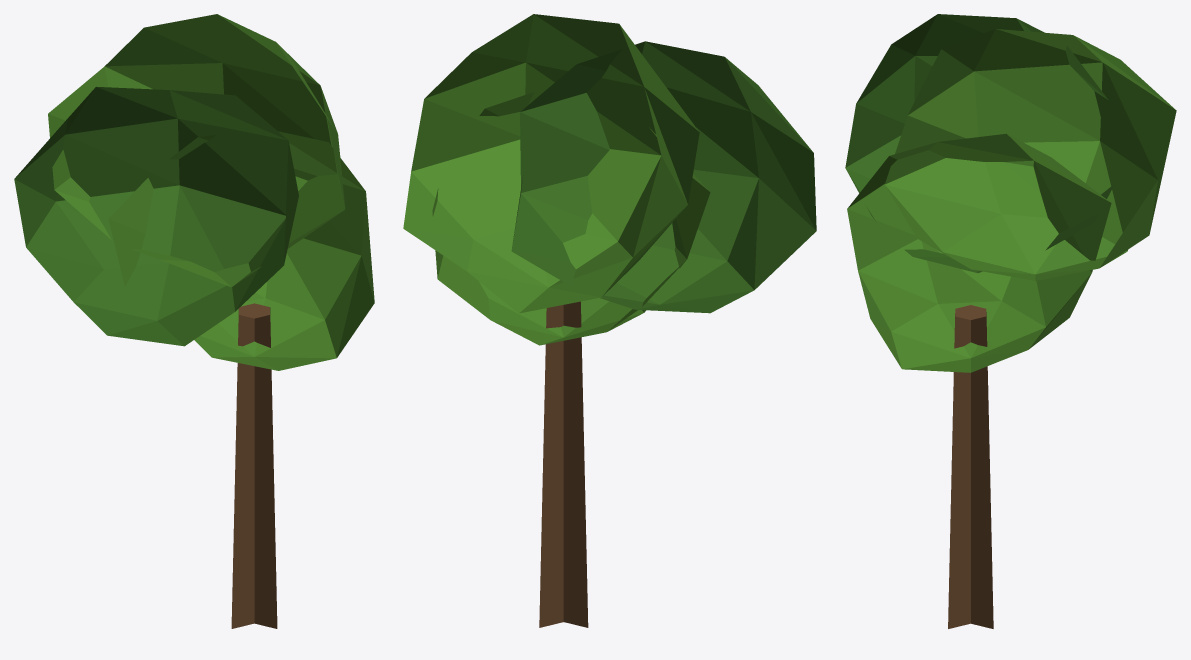
File: tree-round-b.glb
3 renders of one model, left to right at view 1: azimuth 30°, elevation 25°; view 2: azimuth 150°, elevation 25°; view 3: azimuth 270°, elevation 25°, orthographic. The views are drawn at different scales.
Visible parts, largest first — view 1: tree-round-b; view 2: tree-round-b; view 3: tree-round-b.
Part boxes in pixels (bbox=[...]): tree-round-b: bbox=[14, 14, 374, 628]; tree-round-b: bbox=[403, 14, 816, 627]; tree-round-b: bbox=[845, 14, 1176, 628].
Bounding box in the file's own units: 3.07 × 5.33 × 2.76.
